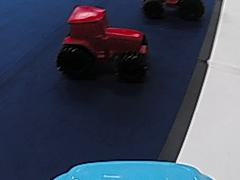Tracktor: (54, 4, 154, 78), (140, 1, 202, 21)
